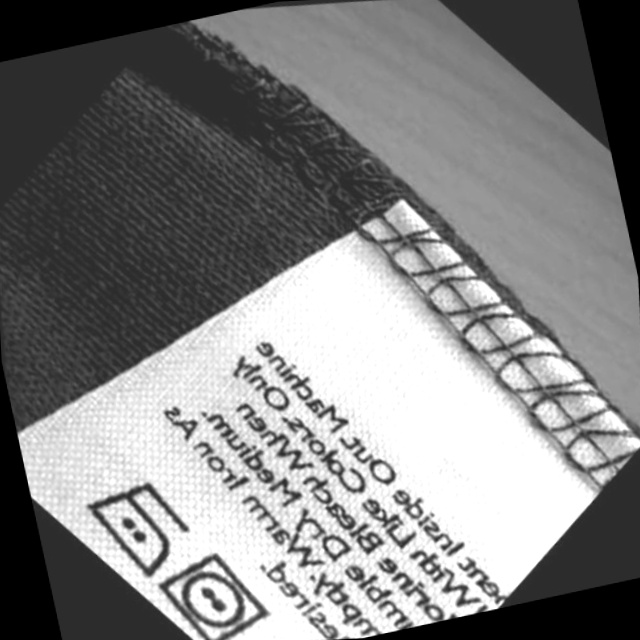iron_medium: (64, 462, 206, 595)
tumble_dry_medium: (139, 534, 283, 640)
